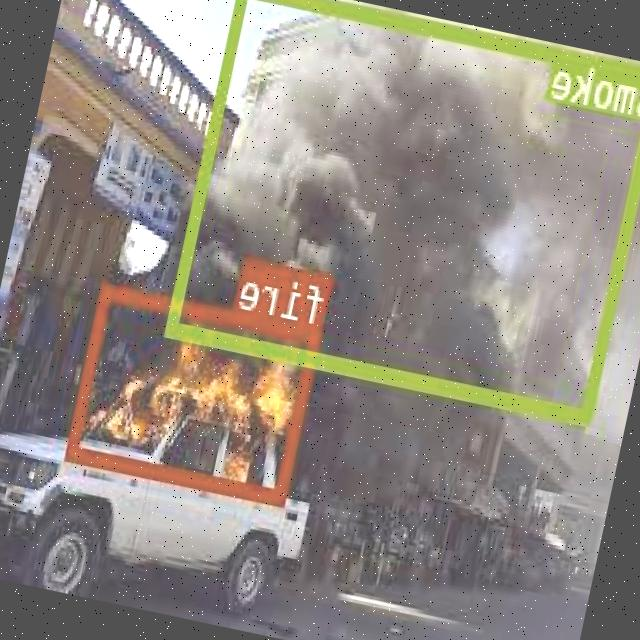fire: (68, 282, 323, 504)
smoke: (167, 0, 640, 424)
